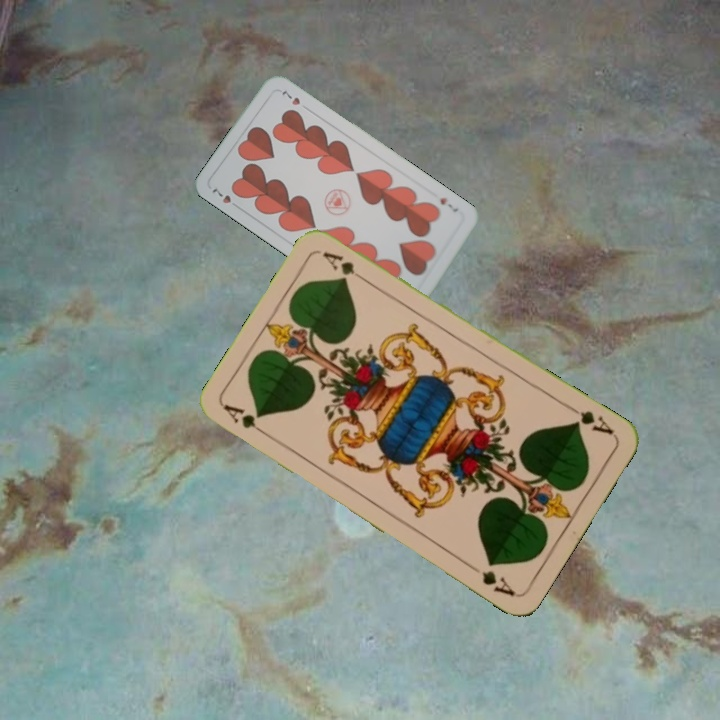GA: (220, 400, 273, 440), (563, 401, 616, 438)
H7: (208, 184, 243, 212), (436, 193, 461, 216)
